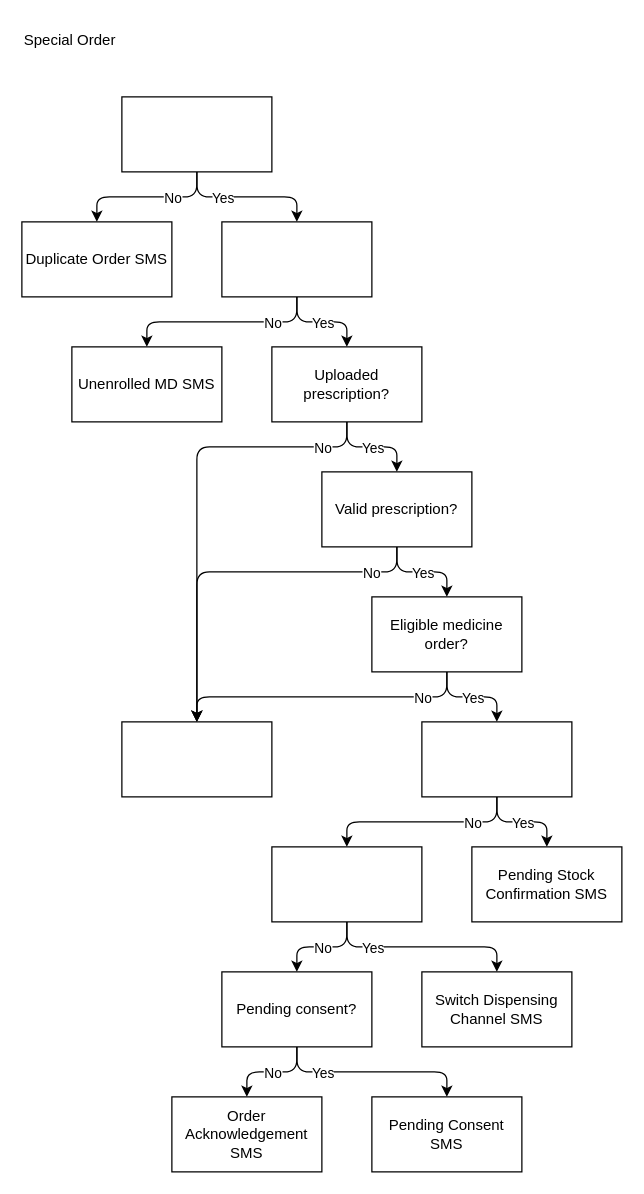
Some shapes in this 644 by 1194 pixel diagram are drawn without their labels. Each missing label, with the centre of its shape:
Doctor enrolled?: the point at 296,259
Pending Requirements SMS: the point at 196,759
Pending stock confirmation?: the point at 496,759
Switch dispensing channel?: the point at 346,884
Unique order for this batch?: the point at 196,134
